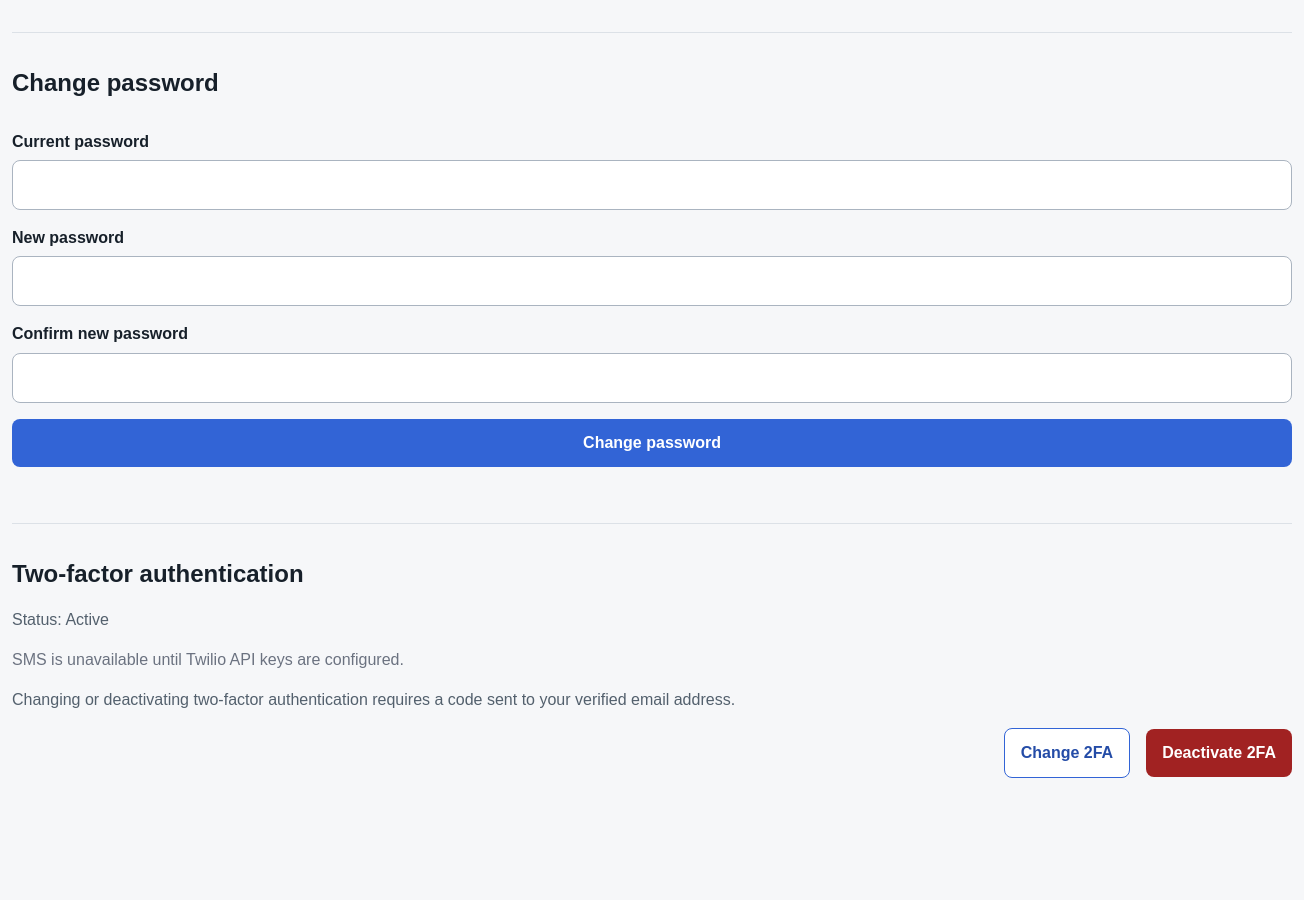
Test: ProfileSecurity › explains and centers email verification before changing 2FA
Expected: the text "requires a code sent to your verified email address" is shown, [12, 692, 735, 708]
Click the button "Change 2FA". click: (1067, 754)
box: [1004, 728, 1130, 778]
(page scrolled)
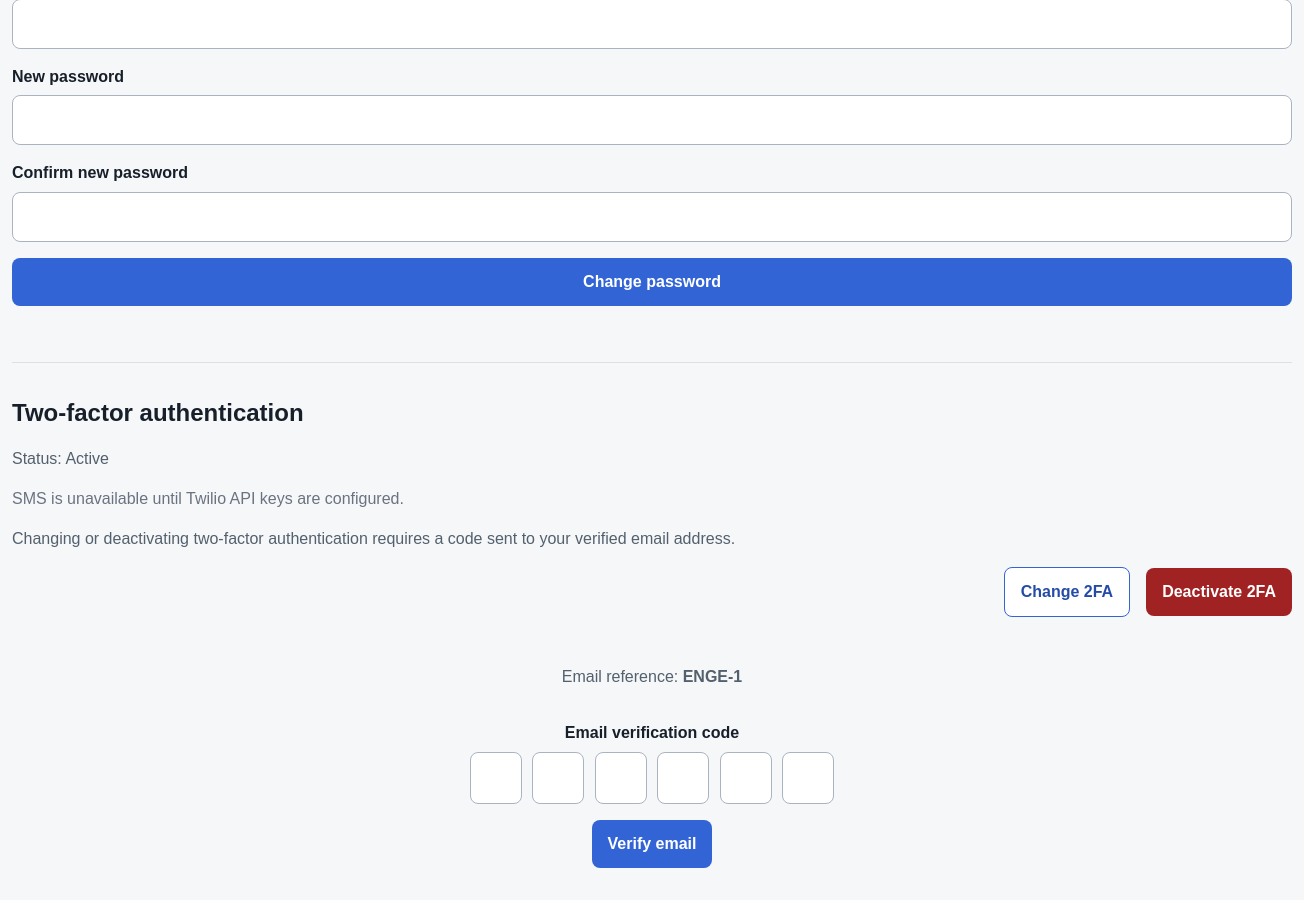
Result: the text "ENGE-1" is shown at [683, 668, 742, 686]
